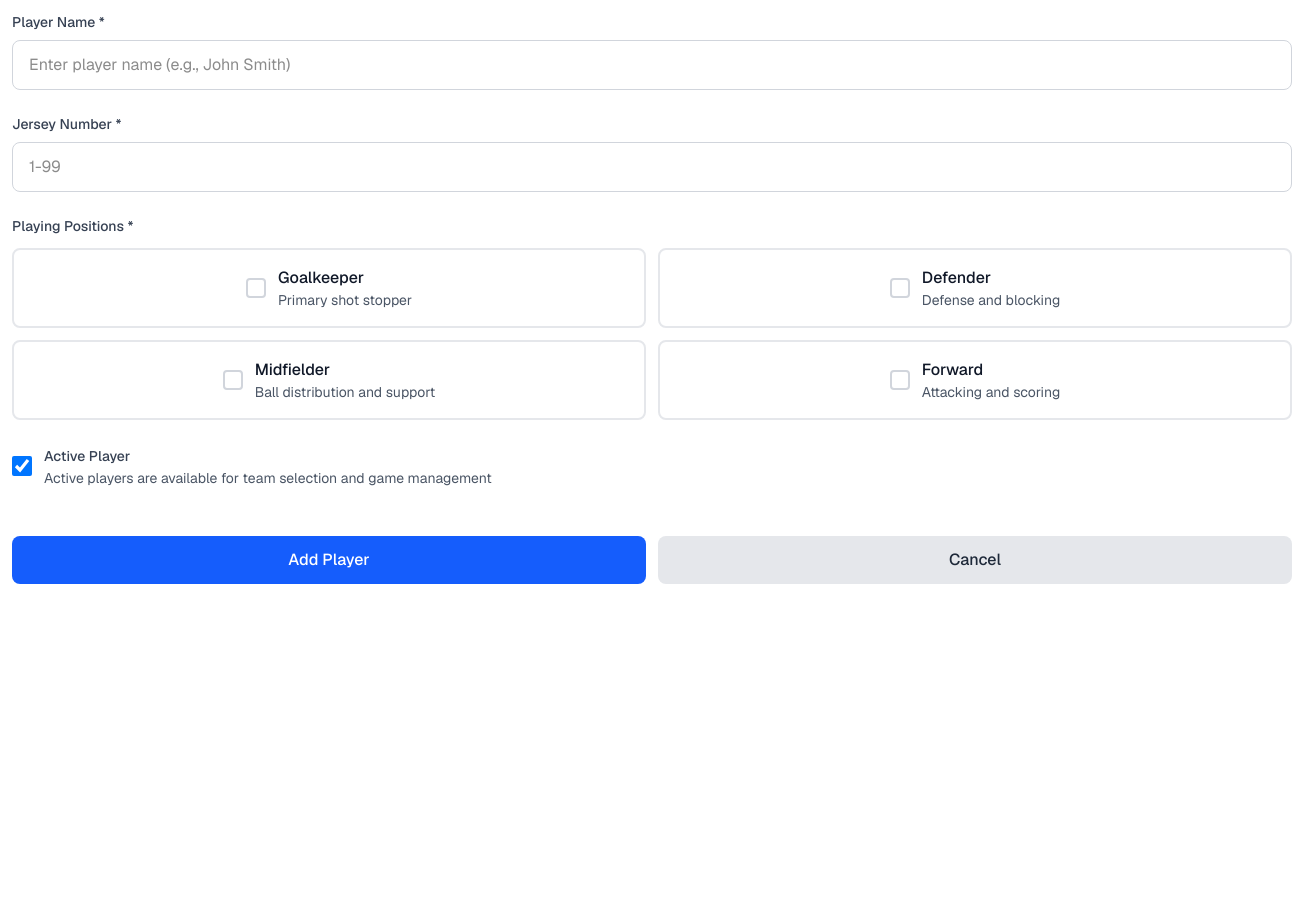
PlayerSetup Component › PlayerForm Component › should validate jersey number range
Type "100" into the number field labelled "Jersey Number *" at (652, 167), box [12,142,1292,192]
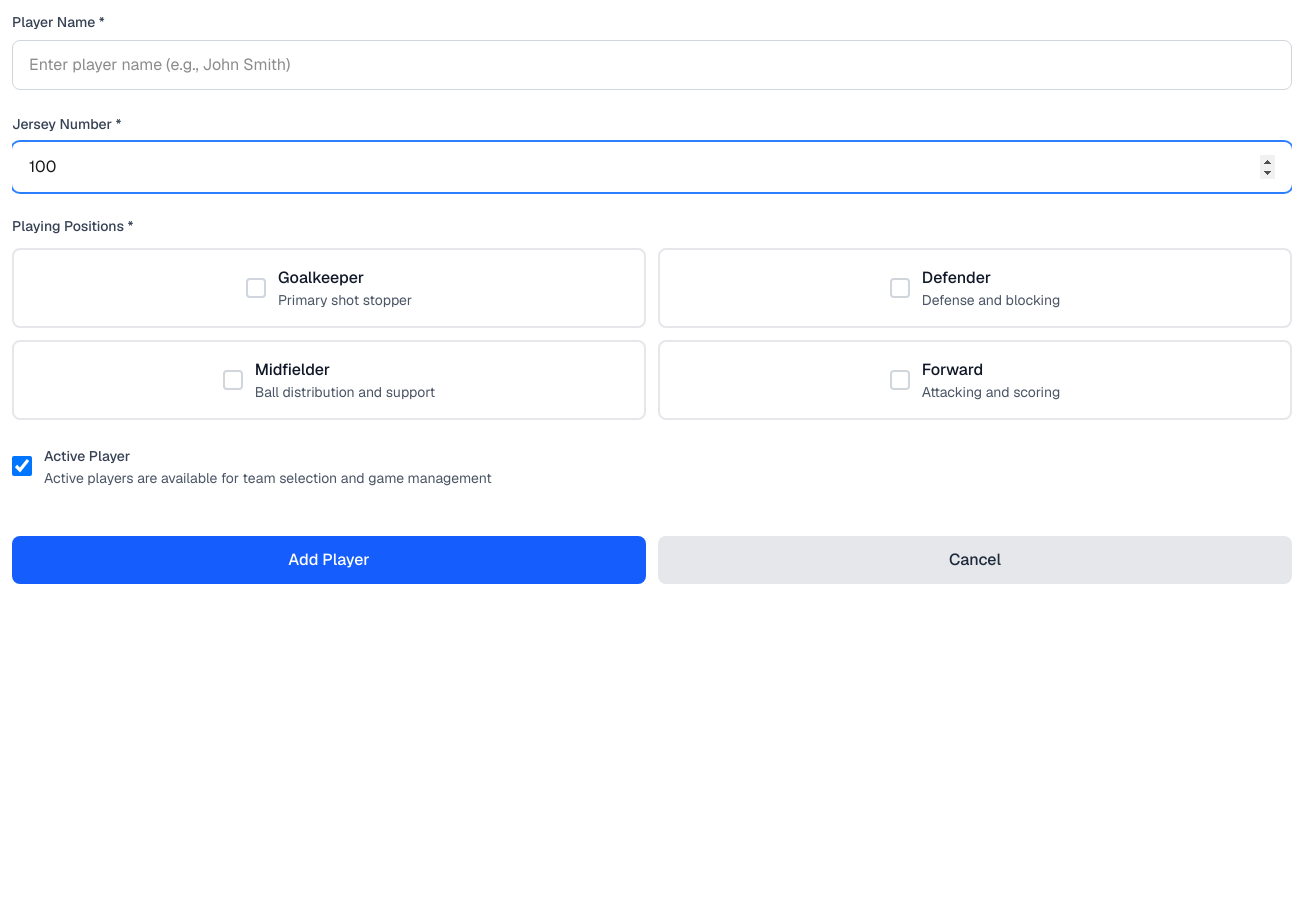
Click the button "Add Player" at (329, 560), box [12,536,646,584]
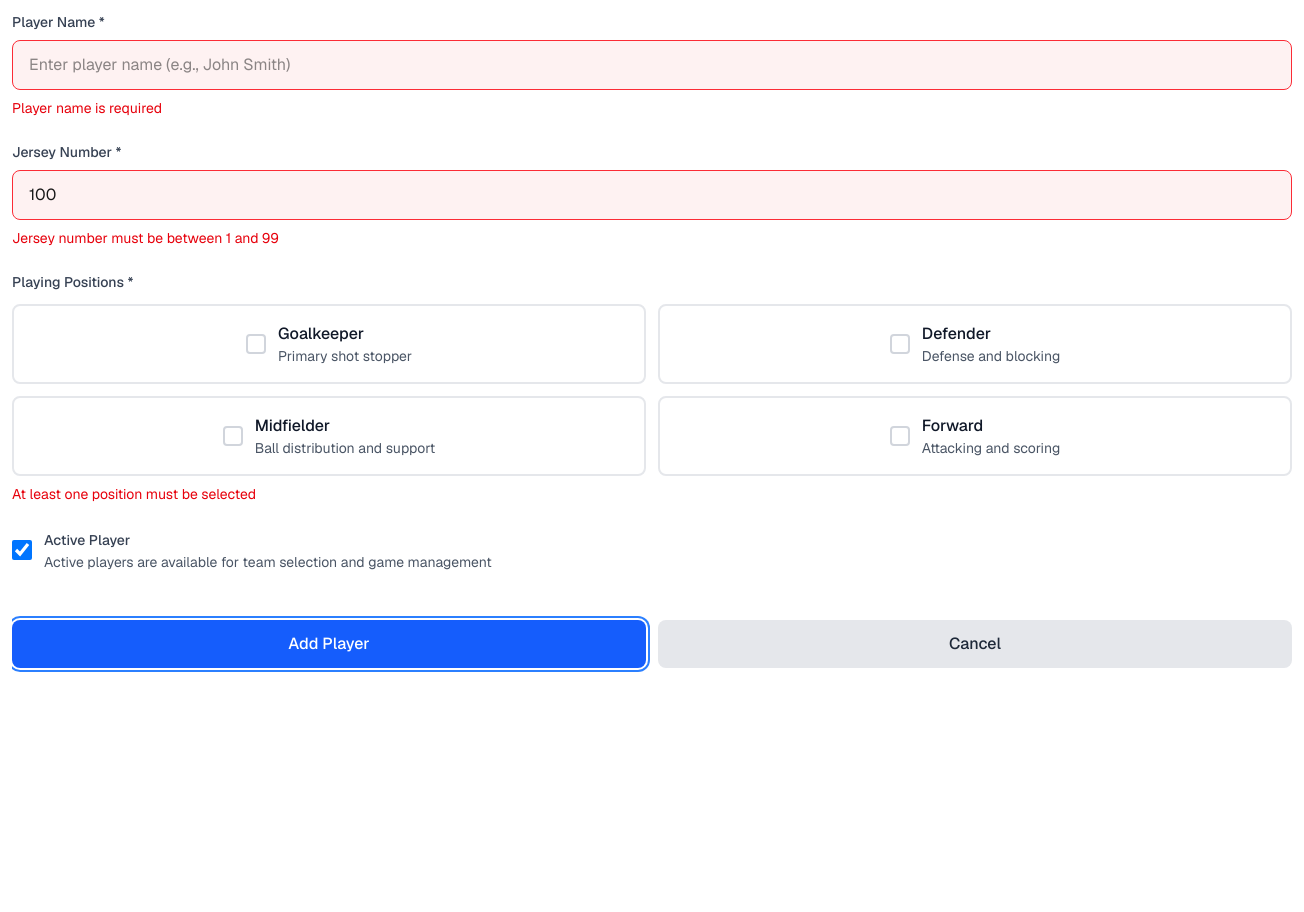
Now the text "Jersey number must be between 1 and 99" is shown, box [12,229,279,247]
